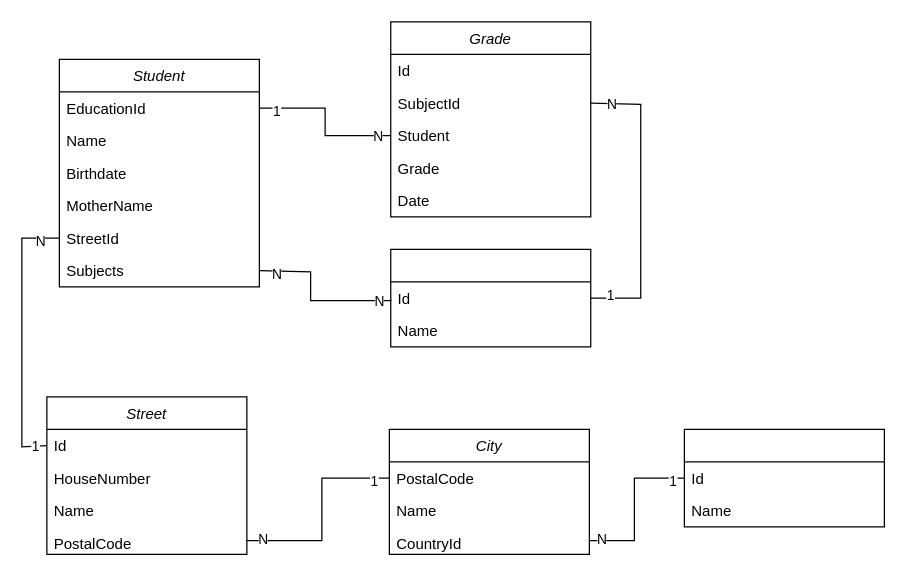
The diagram is 906 pixels wide and 580 high, and some of its shapes have lost their labels. Here are the shapes that lost their labels. From the top down, the box of each, then its label:
(390, 248, 591, 347): Subject
(683, 428, 884, 527): Country
